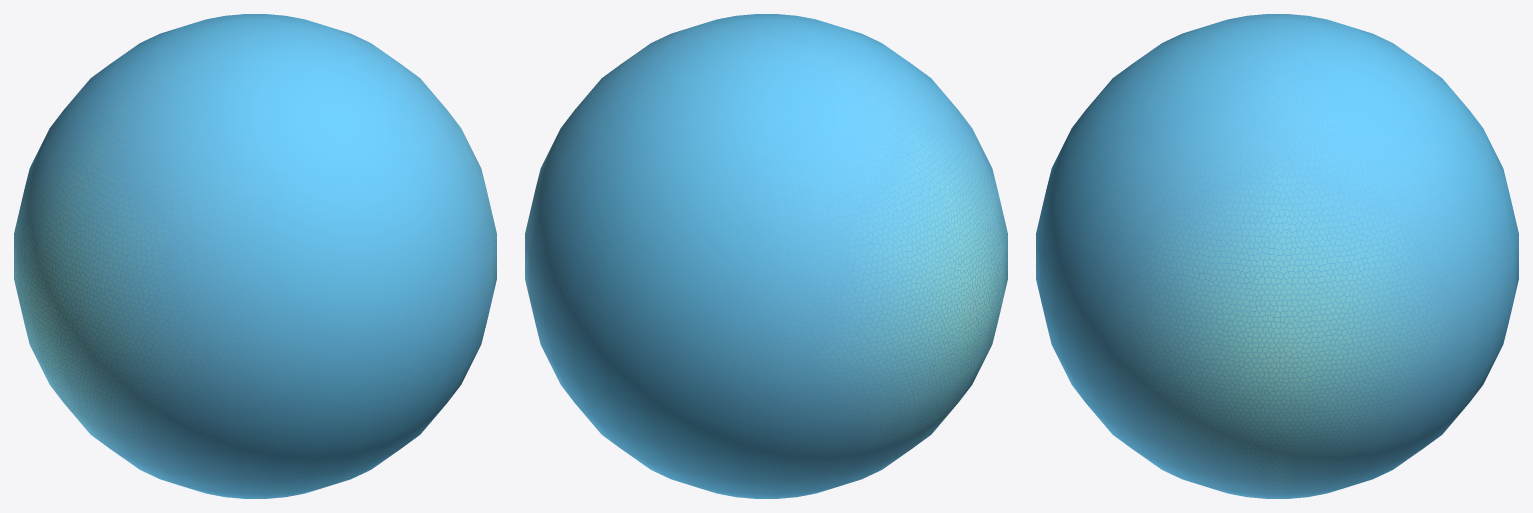
The model's file is SkySphere.DAE.
3 renders of one model, left to right at view 1: azimuth 30°, elevation 25°; view 2: azimuth 150°, elevation 25°; view 3: azimuth 270°, elevation 25°, orthographic.
Parts seen in each view (by area): view 1: Sphere001; view 2: Sphere001; view 3: Sphere001.
Part boxes in pixels (bbox=[...]): Sphere001: bbox=[14, 14, 496, 498]; Sphere001: bbox=[525, 14, 1007, 498]; Sphere001: bbox=[1036, 14, 1518, 498].
Size of the model in its own units: 77.88 by 78.74 by 78.31.
1 material, 1 textured.
